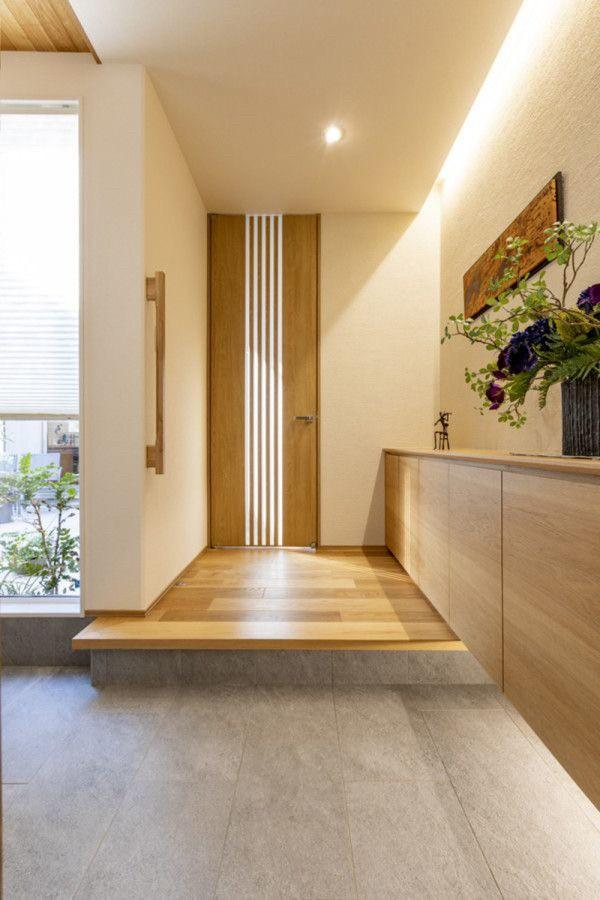floor: (0, 665, 599, 899)
safe: (72, 546, 461, 640)
